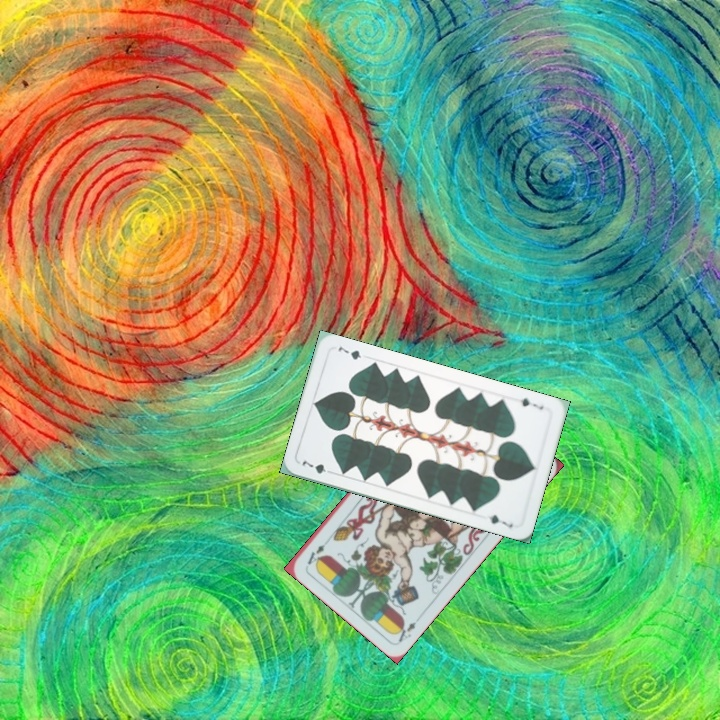EA: (392, 618, 419, 645)
G7: (298, 456, 337, 476), (516, 394, 546, 412)
